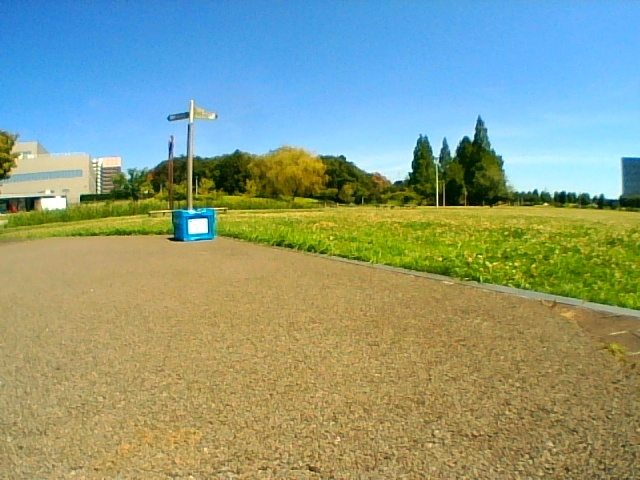blue_box: (173, 209, 215, 240)
tag: (188, 218, 207, 233)
